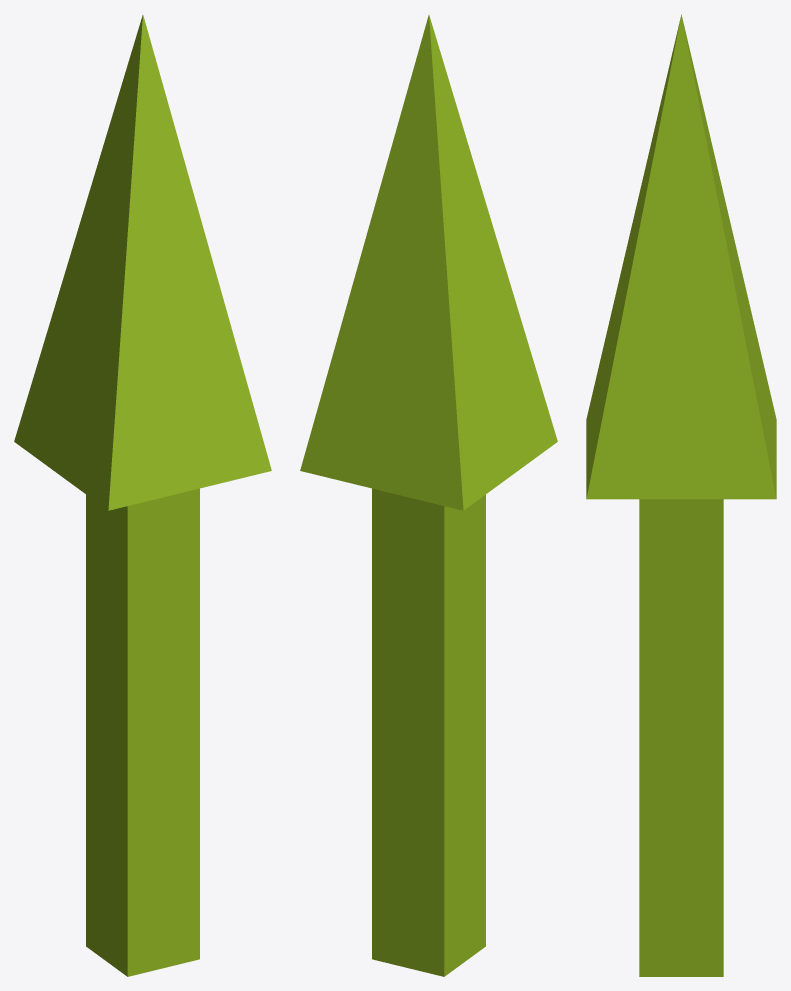
The model's file is transformgizmoY.glb.
The picture shows the model from 3 angles, left to right: view 1: azimuth 30°, elevation 25°; view 2: azimuth 150°, elevation 25°; view 3: azimuth 270°, elevation 25°; orthographic projection.
Parts seen in each view (by area): view 1: Cube; view 2: Cube; view 3: Cube.
Part boxes in pixels (x1,y1,x2,y2): Cube: (14,15,271,976); Cube: (300,15,557,976); Cube: (586,14,776,976).
Bounding box in the file's own units: 0.1911 × 1.05 × 0.1911.
1 material, 1 textured.
